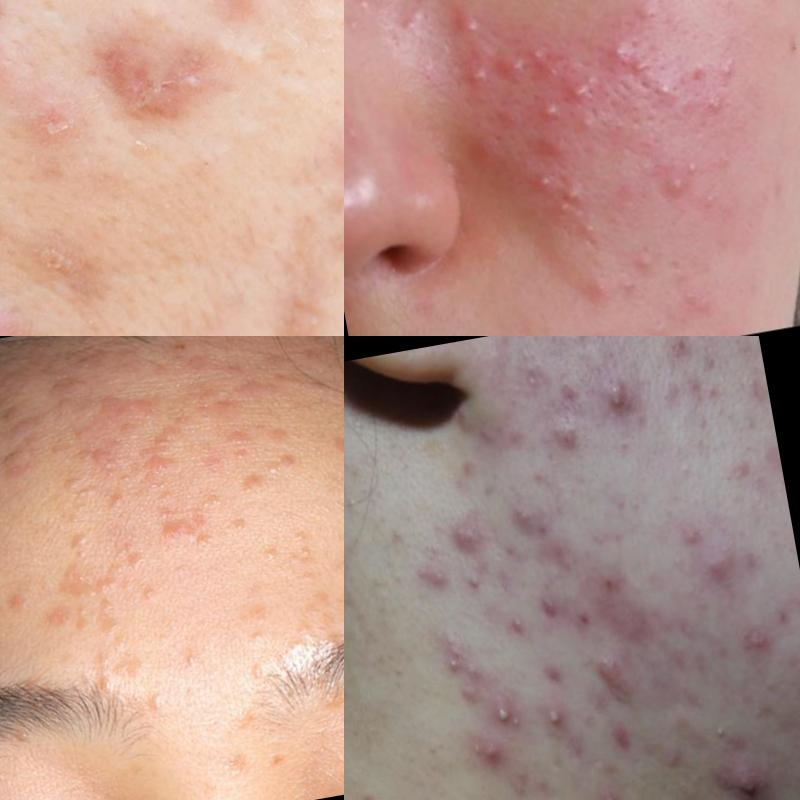acne_scars: (98, 19, 210, 164), (247, 224, 345, 337)
flat_wart: (1, 346, 93, 447), (1, 563, 71, 641), (136, 417, 211, 483), (216, 415, 303, 467), (207, 366, 287, 419), (80, 643, 153, 701), (252, 522, 334, 572), (184, 488, 240, 559), (44, 557, 124, 605), (70, 433, 140, 481), (1, 437, 50, 498), (99, 377, 151, 430), (235, 471, 282, 509), (65, 522, 99, 562), (123, 547, 154, 574)
papular: (539, 405, 603, 474), (594, 653, 653, 724), (699, 535, 748, 608), (411, 546, 465, 604), (510, 496, 562, 550), (446, 509, 493, 556), (619, 49, 665, 91), (591, 559, 634, 602), (739, 615, 772, 665), (568, 106, 607, 146), (455, 673, 490, 710), (534, 588, 569, 624), (533, 129, 567, 165), (663, 168, 695, 206), (474, 131, 507, 167), (586, 272, 617, 310), (631, 1, 670, 31)
purulent: (466, 732, 509, 774), (552, 179, 590, 225), (501, 51, 538, 91), (459, 10, 493, 49), (565, 71, 599, 110), (489, 698, 525, 733), (466, 59, 498, 97), (535, 98, 569, 130), (603, 37, 636, 69), (535, 165, 565, 198), (543, 703, 573, 736), (524, 39, 556, 67), (591, 786, 630, 800)
sebo-crystan-conglo: (600, 377, 640, 414), (730, 770, 779, 800)
whitehead: (231, 30, 289, 94), (436, 638, 479, 685), (1, 43, 23, 128), (59, 471, 106, 510), (202, 581, 248, 616), (703, 713, 739, 757), (345, 114, 382, 153), (221, 505, 260, 542), (495, 609, 532, 648), (394, 1, 430, 41), (138, 687, 177, 723), (693, 182, 727, 220), (675, 278, 711, 313), (466, 566, 496, 607), (498, 102, 533, 137), (651, 71, 683, 109), (628, 240, 658, 280), (676, 151, 712, 184), (256, 544, 288, 578), (176, 642, 209, 674), (229, 443, 264, 468), (701, 95, 731, 124), (136, 582, 166, 611), (106, 480, 136, 508), (721, 57, 746, 85), (644, 317, 674, 337), (116, 467, 139, 491), (156, 501, 178, 525), (248, 627, 270, 650), (357, 1, 379, 16)
